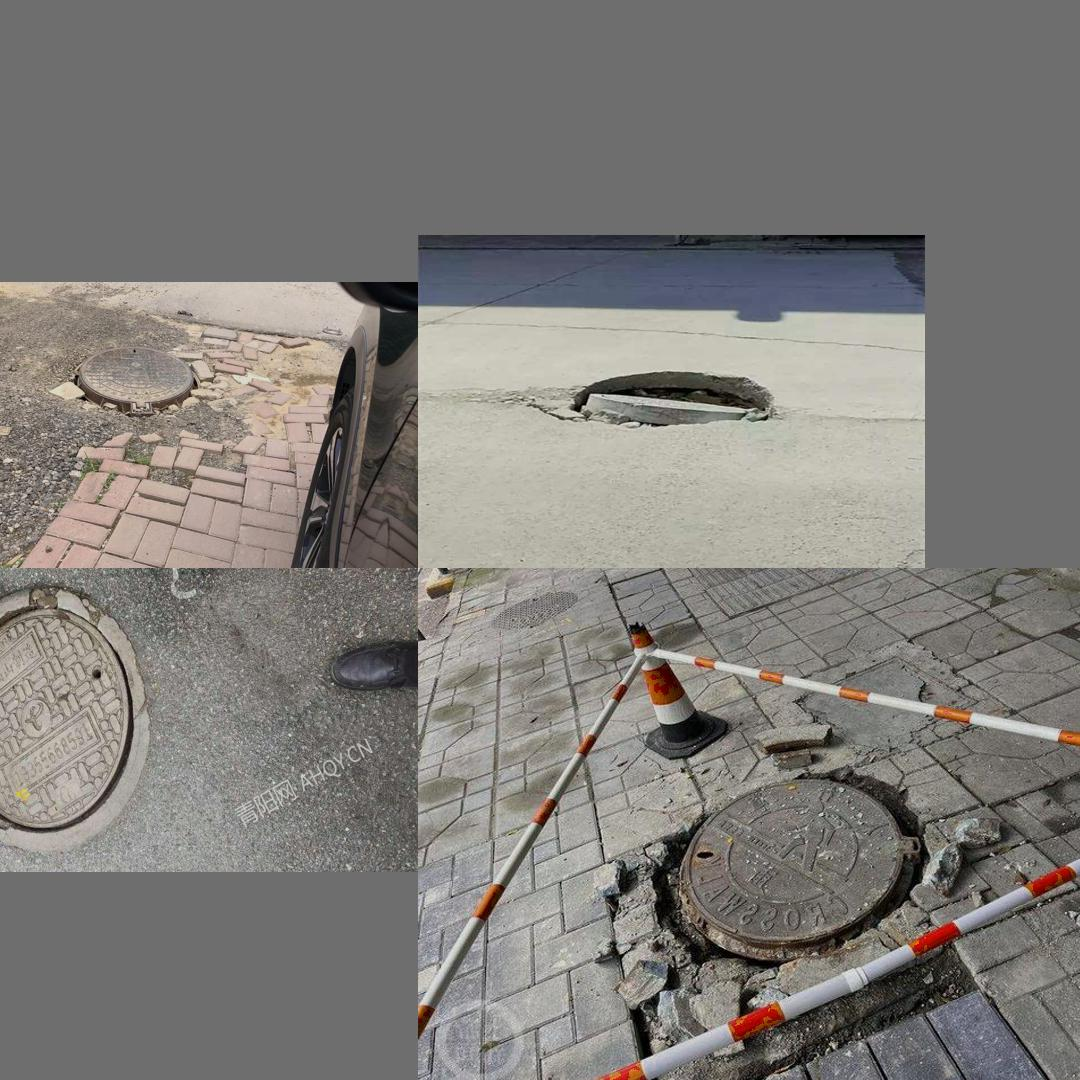circle: (616, 746, 982, 1069), (0, 584, 163, 850), (499, 362, 797, 445), (38, 326, 241, 440)
